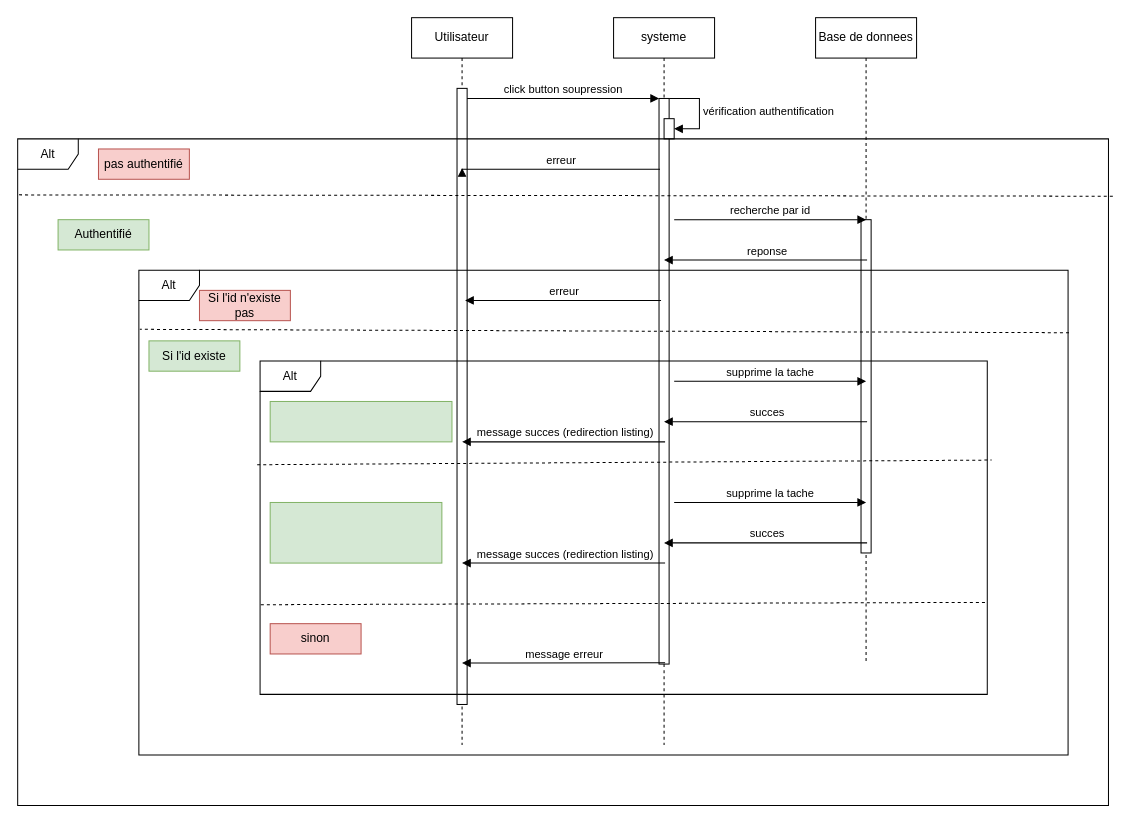
The diagram is 1132 pixels wide and 823 high, and some of its shapes have lost their labels. Each missing label, with the centre of its shape:
Ou si utilisateur a le role admin & la tache n'a pas d'auteur: (x=355, y=532)
SI utilisateur est l'auteur de la tache: (x=360, y=421)
